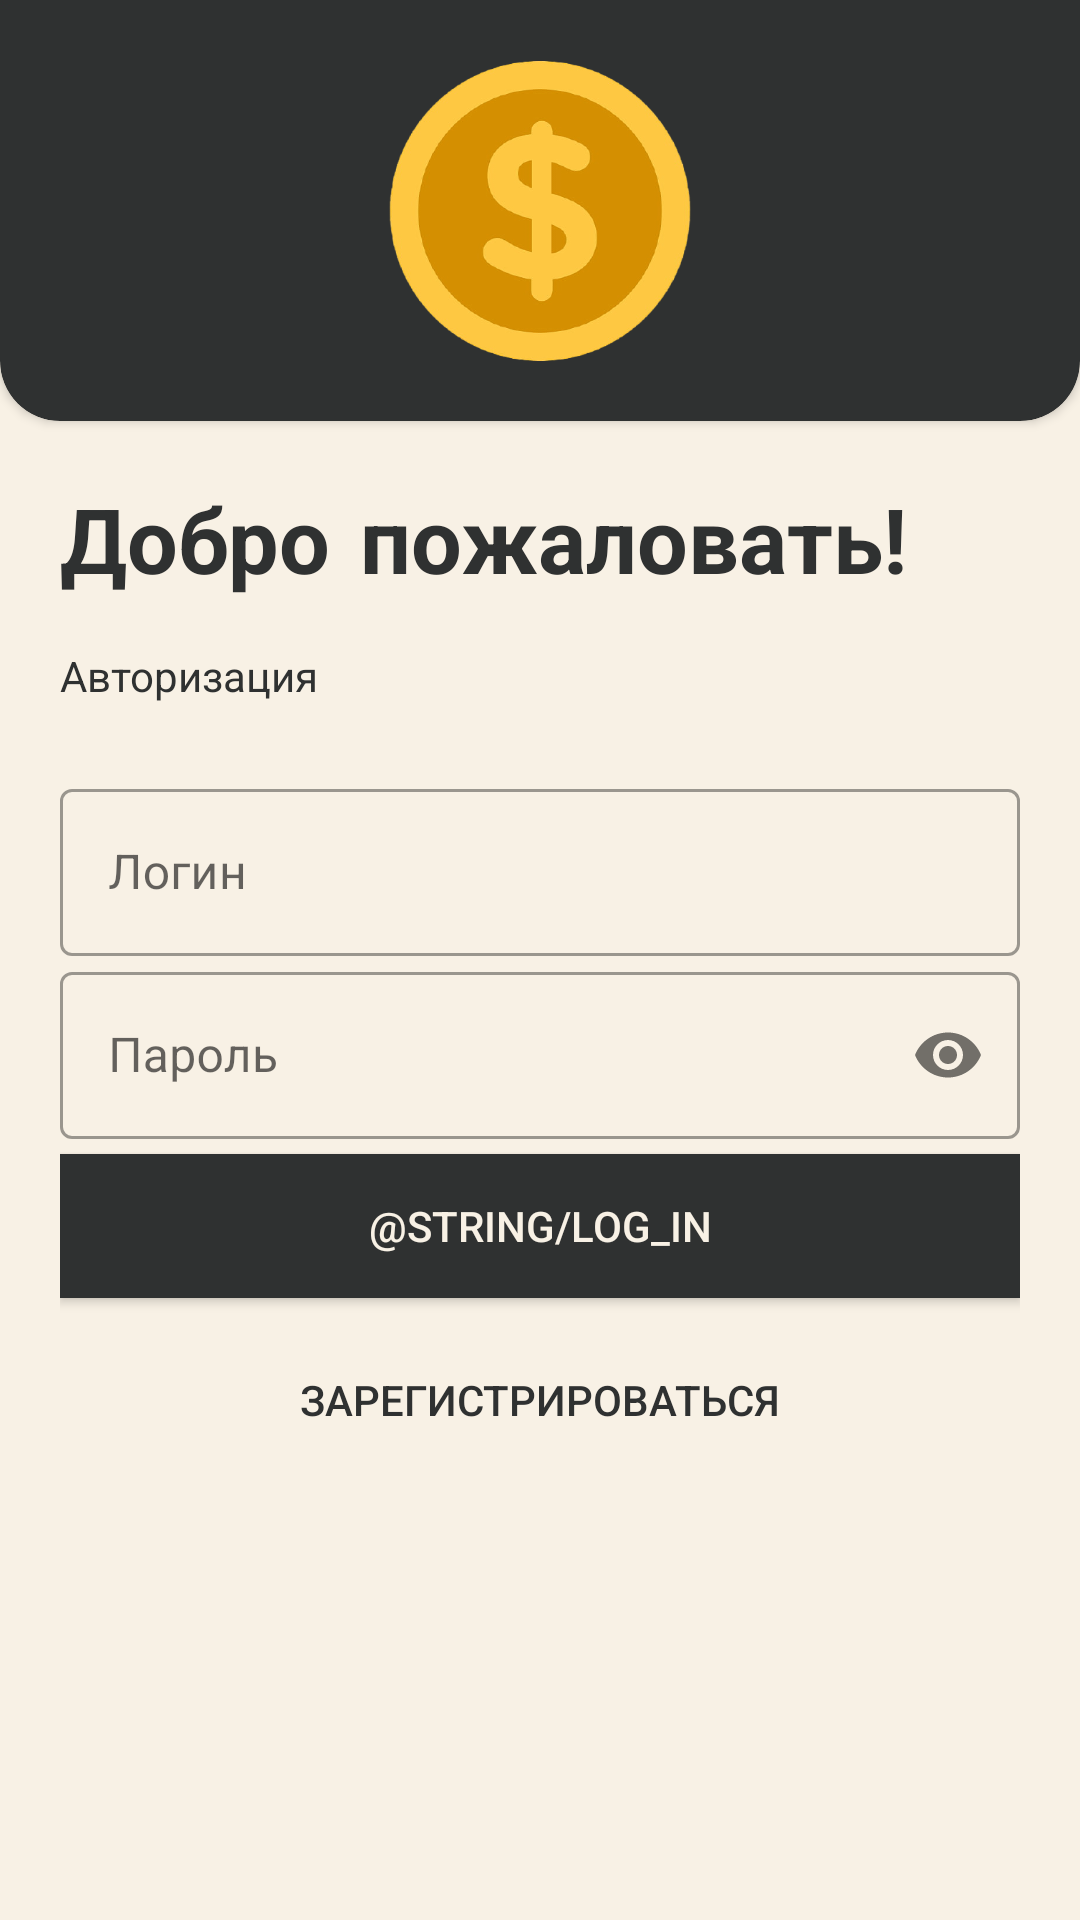

Screen size 1080 x 1920. Icon name, then its box in pixels as (x1, y1, x2, y2):
coin: (389, 61, 691, 361)
